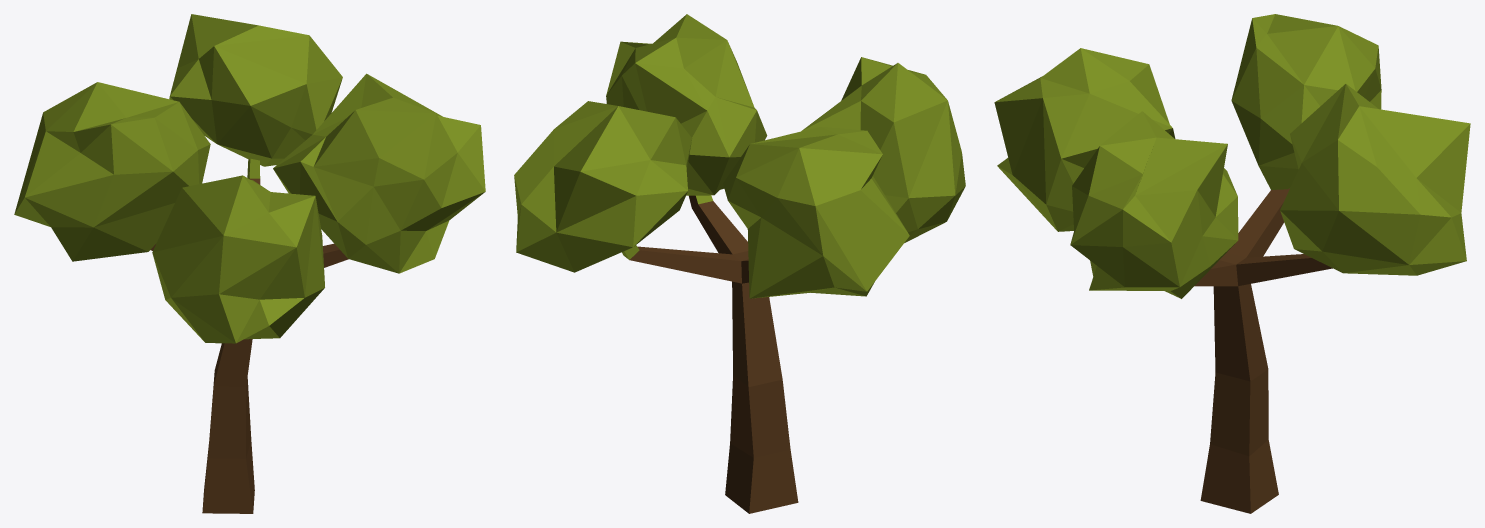
File: Summer_tree_3.fbx
The picture shows the model from 3 angles, left to right: view 1: azimuth 30°, elevation 25°; view 2: azimuth 150°, elevation 25°; view 3: azimuth 270°, elevation 25°; orthographic projection. The views are drawn at different scales.
Visible parts, largest first — view 1: Tree 2, Object035; view 2: Tree 2, Object035; view 3: Tree 2, Object035.
Part boxes in pixels (<box>): Tree 2: <box>14,14,485,343</box>; Object035: <box>150,178,348,513</box>; Tree 2: <box>514,14,965,298</box>; Object035: <box>629,195,798,513</box>; Tree 2: <box>994,14,1470,298</box>; Object035: <box>1194,188,1332,513</box>.
Bounding box in the file's own units: 197 × 209 × 207.
